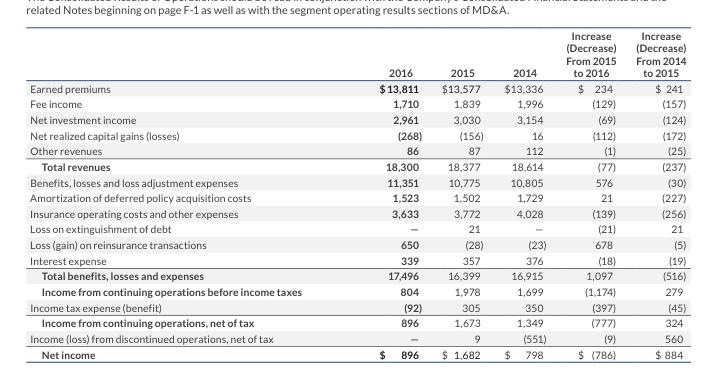table: (29, 28, 685, 359)
table column: (29, 28, 339, 359), (339, 28, 430, 359), (555, 28, 625, 359), (430, 28, 493, 359), (493, 28, 555, 359), (625, 28, 685, 359)
table column header: (29, 28, 685, 79)
table row: (29, 28, 685, 79), (29, 79, 685, 95), (29, 95, 685, 111), (29, 126, 685, 142), (29, 142, 685, 158), (29, 173, 685, 189), (29, 204, 685, 220), (29, 220, 685, 236), (29, 251, 685, 267), (29, 267, 685, 283), (29, 298, 685, 314), (29, 314, 685, 330), (29, 111, 685, 126), (29, 158, 685, 173), (29, 189, 685, 204), (29, 236, 685, 251), (29, 283, 685, 298), (29, 330, 685, 345), (29, 345, 685, 359)
